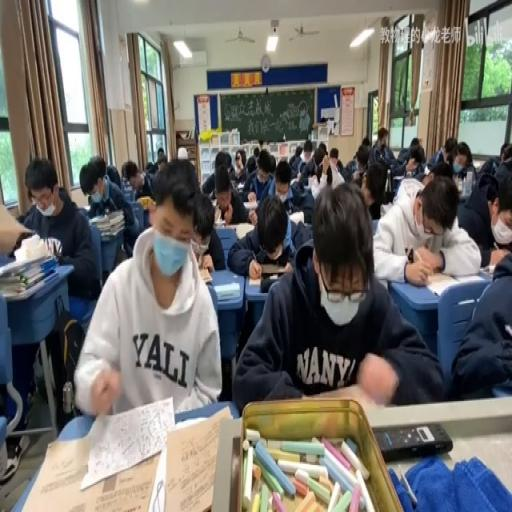calculator: (11, 401, 231, 511), (304, 377, 387, 409), (422, 266, 480, 296), (213, 282, 241, 300), (223, 222, 251, 237), (137, 194, 156, 208), (287, 209, 303, 225), (197, 268, 212, 284), (120, 185, 134, 202), (478, 264, 494, 278), (248, 270, 262, 284), (380, 200, 393, 214), (288, 176, 302, 188), (307, 175, 318, 189), (242, 199, 258, 208), (212, 218, 224, 228), (392, 172, 403, 181), (422, 163, 429, 175), (237, 180, 244, 190)
paper: (230, 182, 434, 412), (10, 154, 99, 425), (453, 247, 512, 399), (84, 155, 138, 266), (457, 155, 510, 260), (207, 160, 253, 228), (286, 155, 320, 222), (314, 146, 344, 192), (446, 141, 476, 186), (394, 136, 424, 176), (368, 128, 395, 169), (348, 142, 370, 184), (396, 175, 424, 205), (136, 169, 153, 199), (478, 156, 499, 180), (121, 160, 139, 184), (274, 162, 290, 189), (430, 159, 452, 178), (105, 162, 120, 188), (216, 152, 232, 174), (300, 139, 314, 161), (234, 149, 245, 171), (245, 155, 255, 176), (500, 141, 510, 161), (317, 142, 326, 160), (360, 136, 370, 150), (177, 145, 187, 158), (294, 145, 302, 161), (446, 150, 454, 164), (253, 145, 259, 161), (145, 160, 154, 170), (410, 142, 416, 156), (157, 148, 164, 158), (416, 138, 422, 149)
person: (373, 422, 452, 461), (260, 273, 288, 293), (258, 260, 286, 276)
